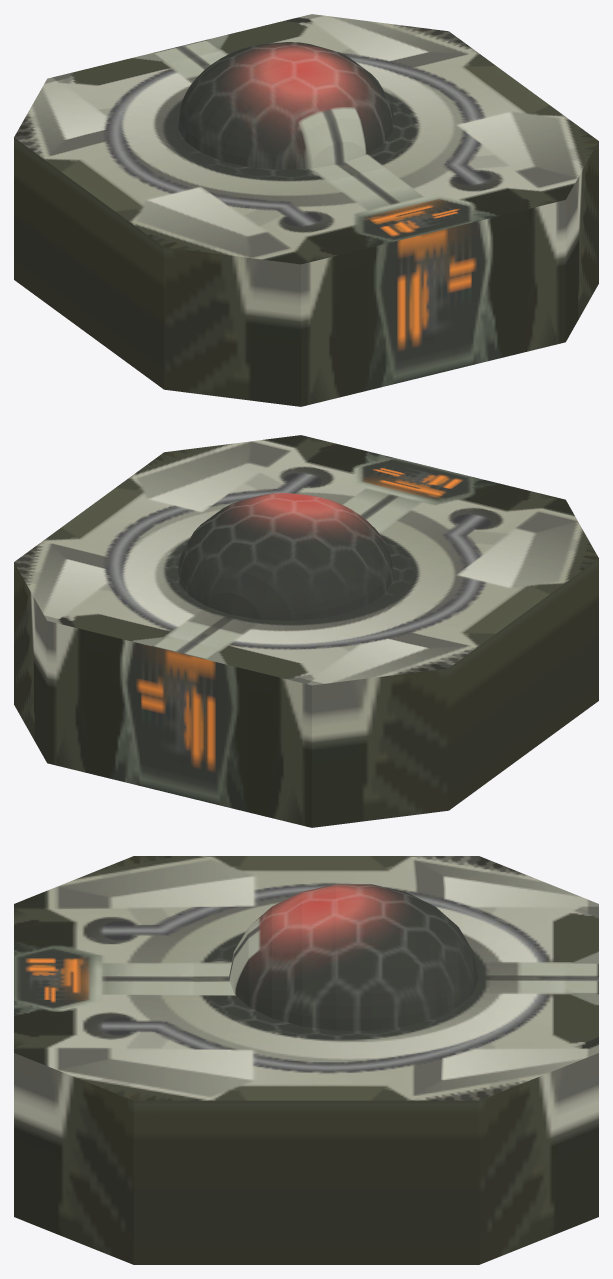
Rendered from Building_CerebrexStabilizer.glb.
3 renders of one model, top to bottom at view 1: azimuth 30°, elevation 25°; view 2: azimuth 150°, elevation 25°; view 3: azimuth 270°, elevation 25°, orthographic. The views are drawn at different scales.
Parts seen in each view (by area): view 1: CerebrexStabilizer; view 2: CerebrexStabilizer; view 3: CerebrexStabilizer.
Boxes of the visible parts, x1,y1,x2,y2 form: CerebrexStabilizer: [14, 14, 598, 406]; CerebrexStabilizer: [14, 435, 598, 827]; CerebrexStabilizer: [14, 856, 598, 1264].
Size of the model in its own units: 2.88 by 1.33 by 2.91.
Materials: 1 (1 with a texture image).
